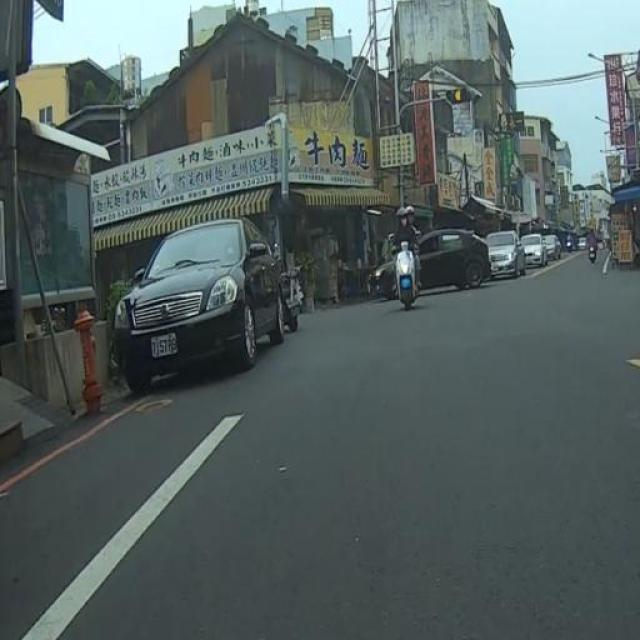illegalparking: (115, 220, 285, 391), (420, 229, 490, 289)
